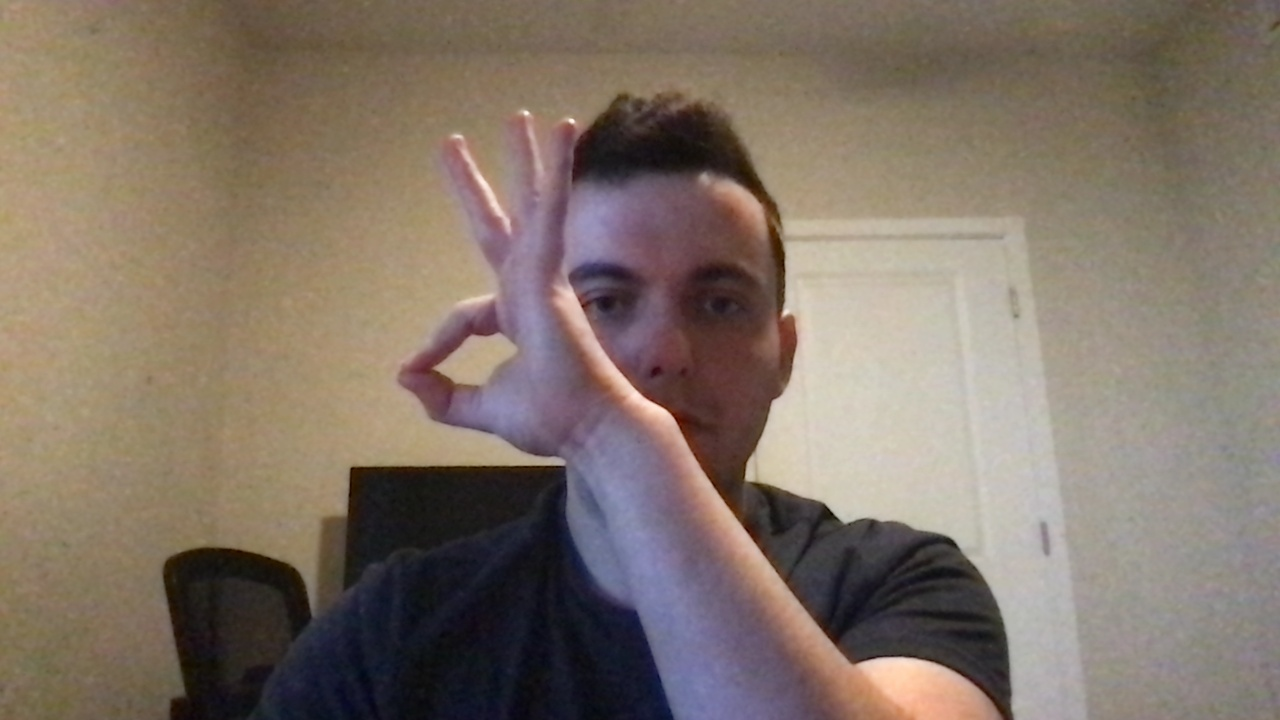f: (372, 98, 647, 483)
